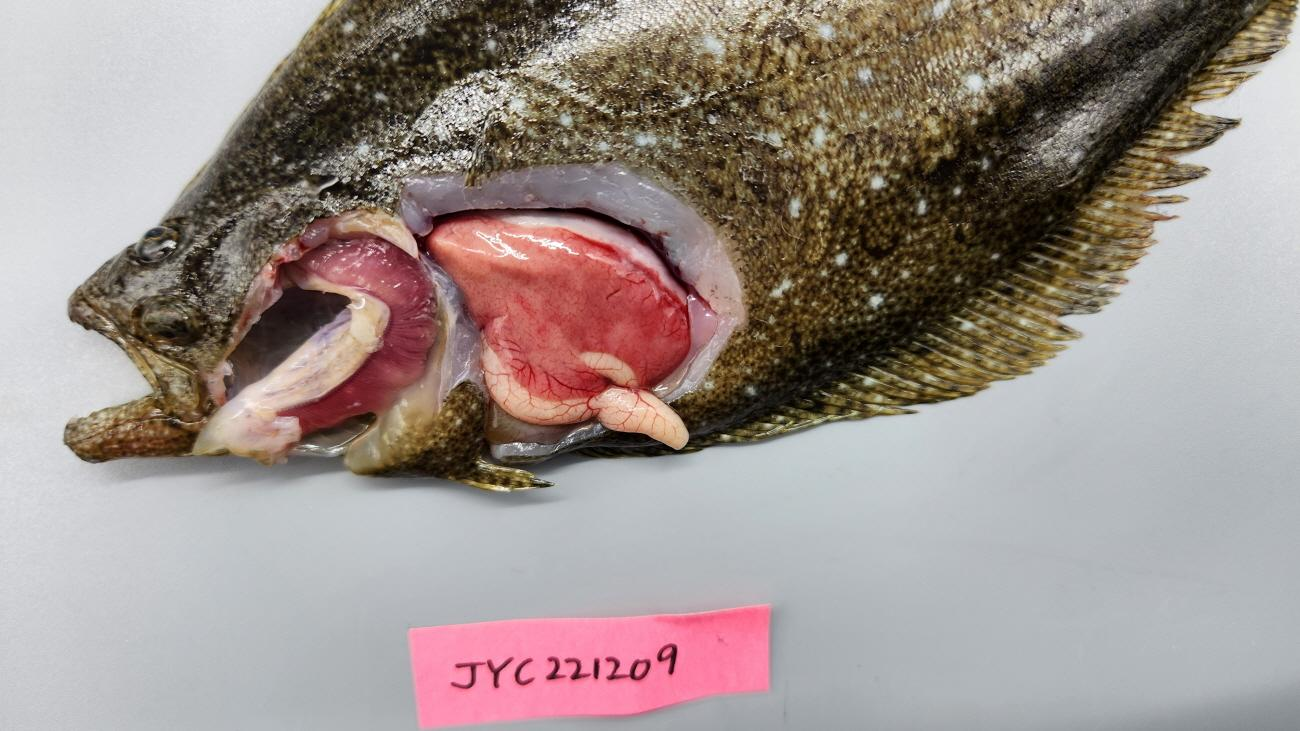MAGIN: (376, 238, 437, 361)
MAGIP: (377, 363, 426, 384)
